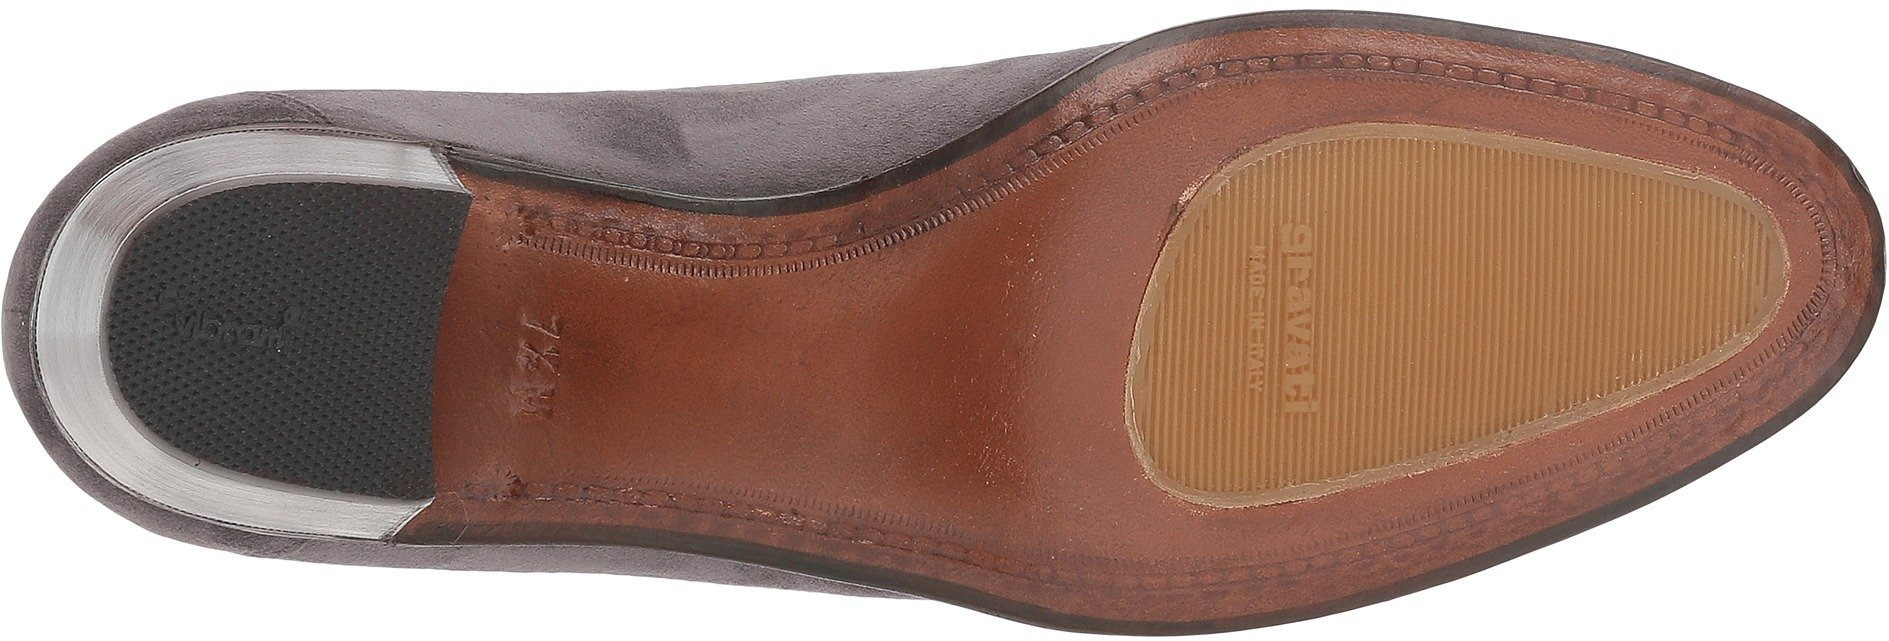line: (1230, 317, 1354, 413), (1235, 227, 1326, 314)
other: (1358, 200, 1558, 386), (1556, 188, 1728, 369), (952, 216, 1131, 367), (248, 358, 386, 475), (292, 195, 417, 318)
text: (1230, 317, 1354, 413), (1235, 227, 1326, 314)
